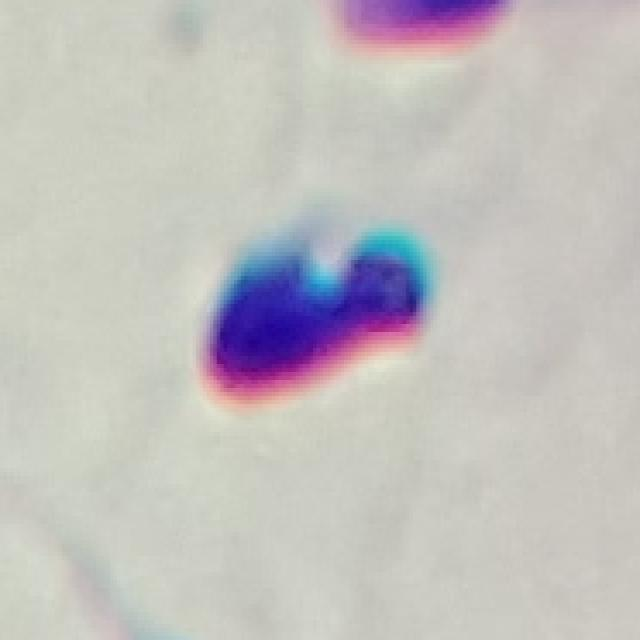non-sperm: (185, 230, 442, 414)
